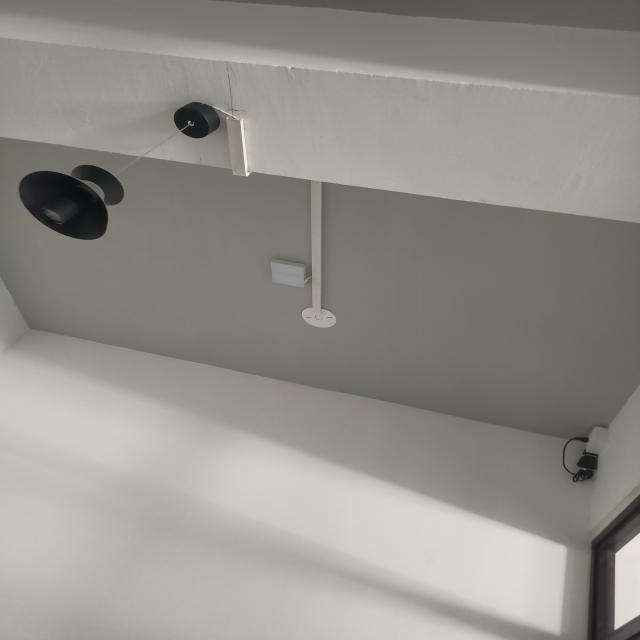light_off: (9, 75, 221, 261)
